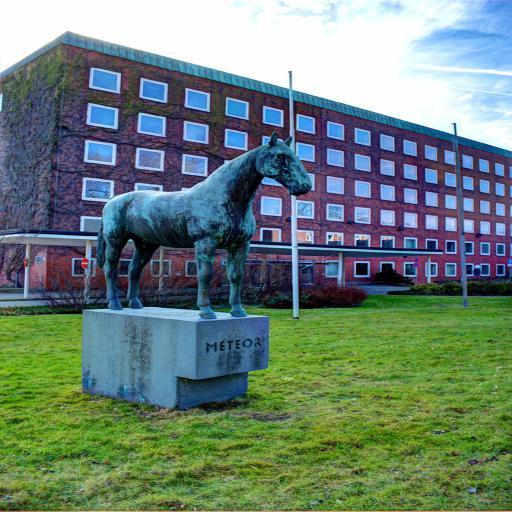Horse: (89, 130, 315, 319)
